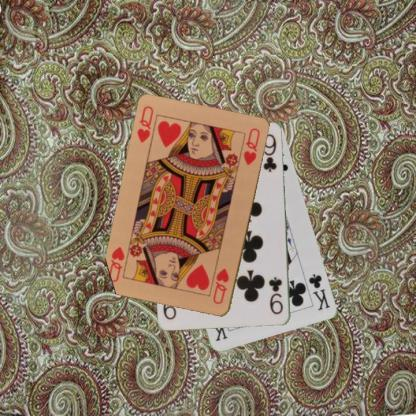9c: (266, 274, 284, 316)
Kc: (306, 271, 332, 312)
Qh: (210, 265, 230, 306), (134, 104, 154, 144)
